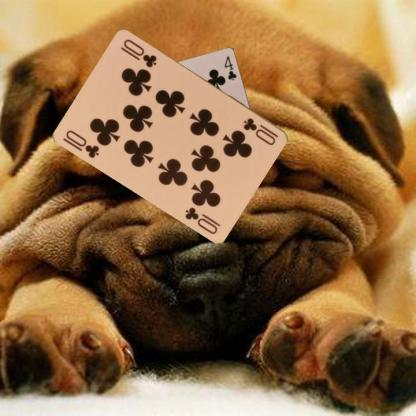10c: (241, 115, 280, 147), (64, 127, 101, 160)
